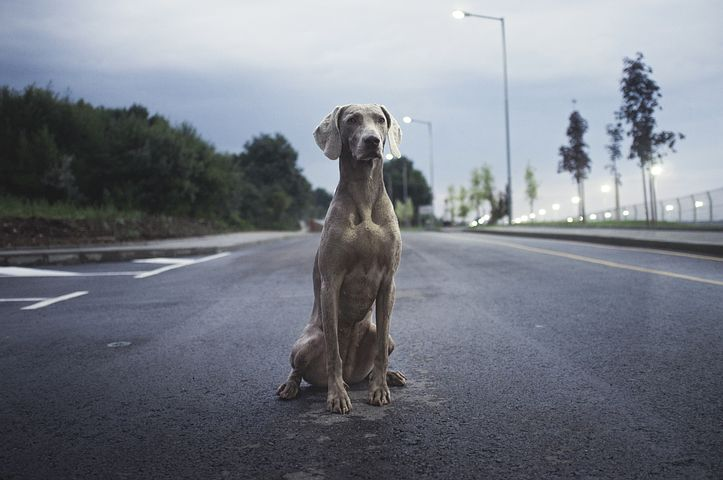kopek: (278, 97, 451, 421)
